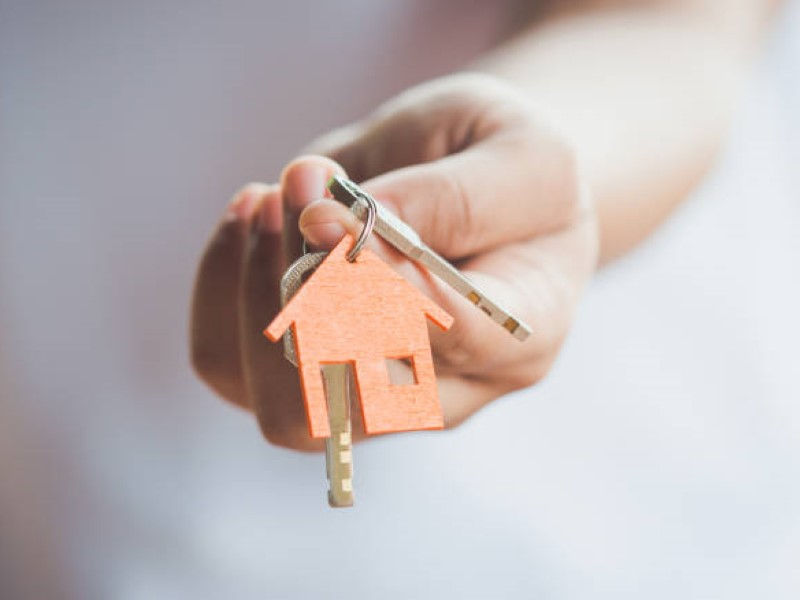key: (323, 175, 538, 345)
